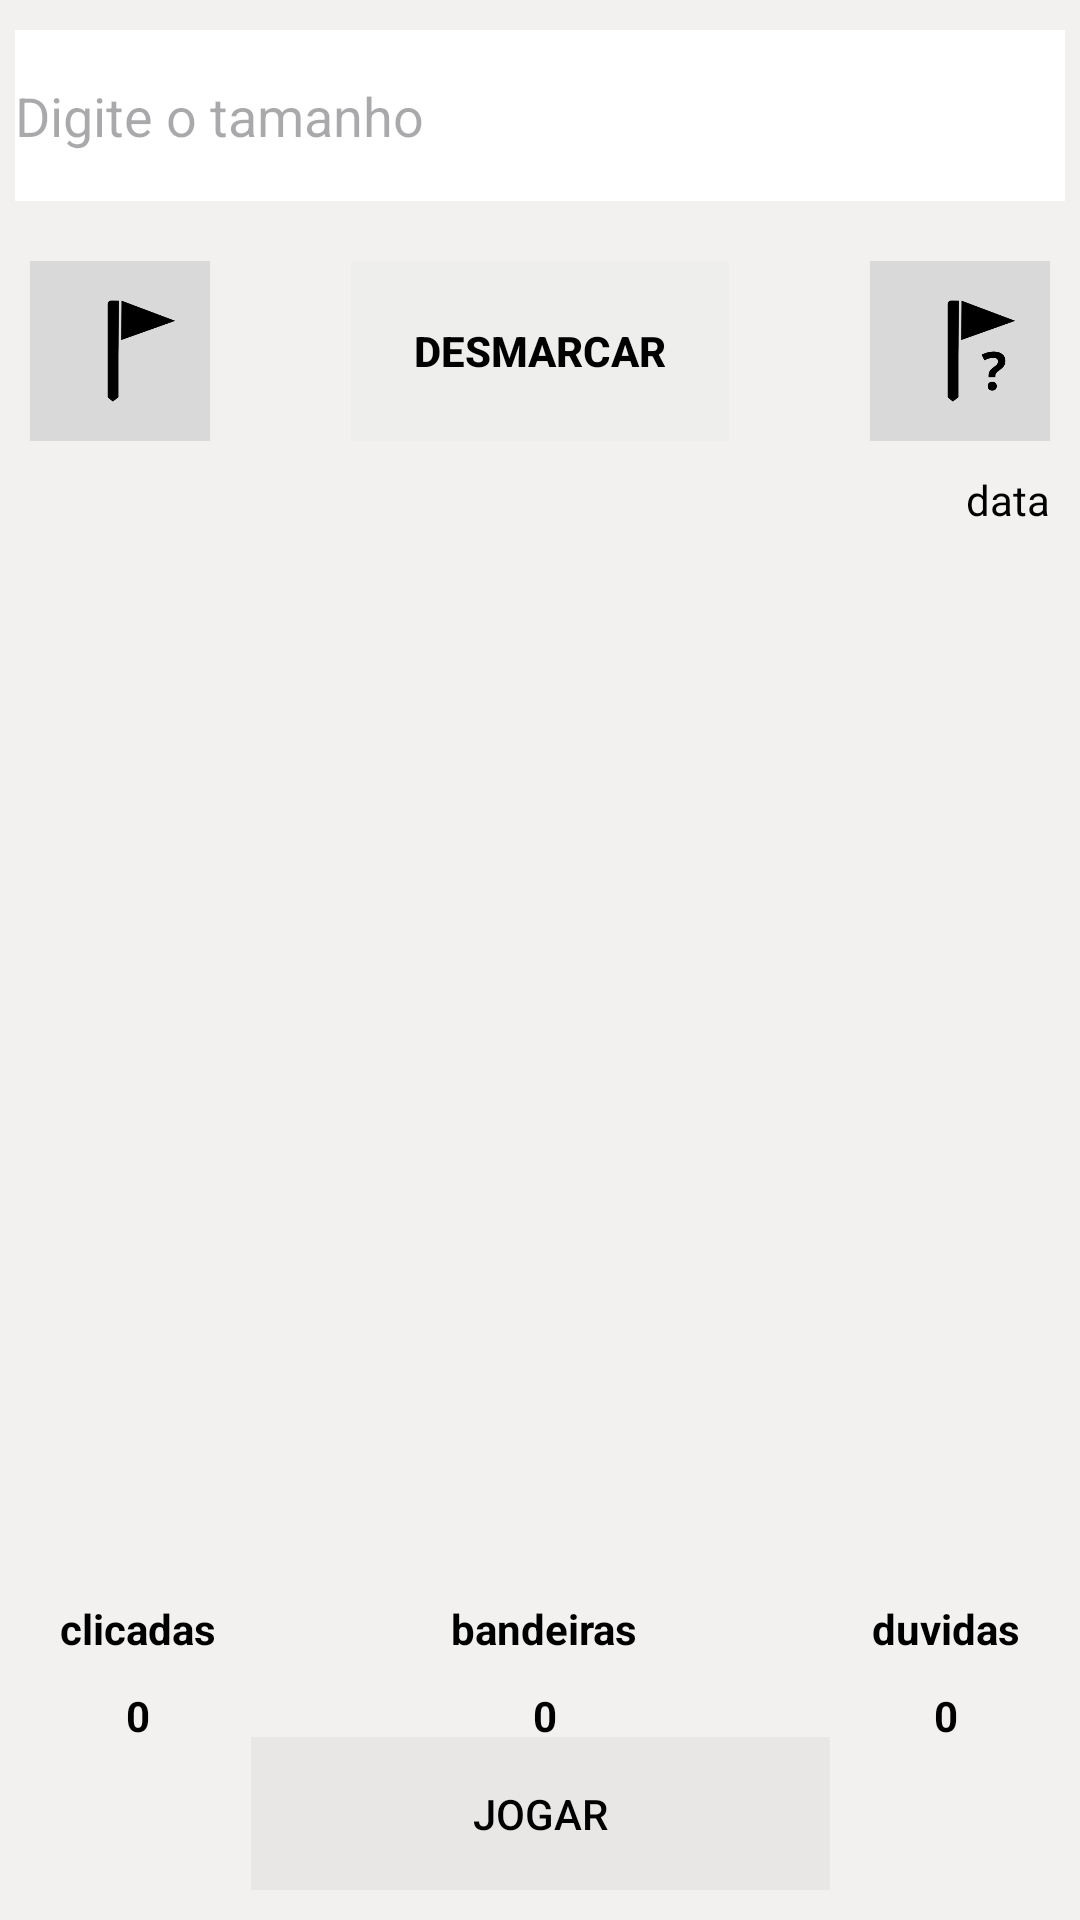

Point at icon controls on the screen. Image size 1080w x 1920h, points as (x=x, y=y).
bandeira: (x=120, y=351)
duvida: (x=960, y=351)
